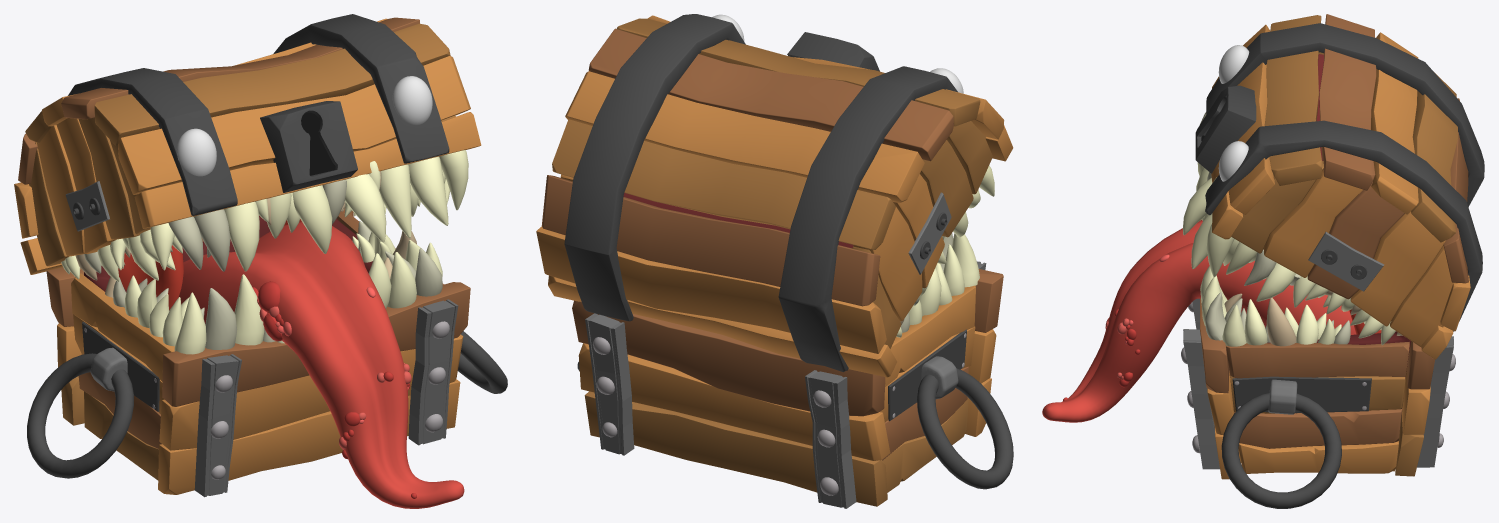
The model's file is Mimic.fbx.
3 views of the same model, side by side, from view 1: azimuth 30°, elevation 25°; view 2: azimuth 150°, elevation 25°; view 3: azimuth 270°, elevation 25° (orthographic). The views are drawn at different scales.
Visible parts, largest first — view 1: Cube.028, BezierCurve, Cube.133, Cube.023, Cube.008, Cube.040, Torus.001, Cube.004, Cube.055, Cube.046, Cube.003, Cube (+10 smaller); view 2: Cube.028, Cube.008, Cube.023, Cube.040, Cube.004, Torus.001, Cube.006, Cube.002, Cube.133, Cube.047, Cube.046, Cube.005 (+3 smaller); view 3: Cube.028, Cube.008, BezierCurve, Cube.023, Cube.133, Cube.040, Cube.004, Cube.034, Torus.001, Cube.046, Cube.047, Cube.003 (+8 smaller).
Part boxes in pixels (box(x1,y1,x2,y2)): Cube.028: box(14, 18, 481, 494); BezierCurve: box(179, 222, 464, 508); Cube.133: box(61, 150, 468, 354); Cube.023: box(25, 23, 455, 480); Cube.008: box(18, 17, 470, 448); Cube.040: box(273, 14, 449, 163); Torus.001: box(27, 331, 507, 478); Cube.004: box(68, 68, 237, 215); Cube.055: box(84, 179, 442, 349); Cube.046: box(260, 101, 357, 192); Cube.003: box(408, 299, 458, 445); Cube: box(194, 354, 241, 497); Cube.028: box(536, 15, 1013, 460); Cube.008: box(541, 28, 1003, 460); Cube.023: box(552, 18, 992, 506); Cube.040: box(564, 14, 745, 321); Cube.004: box(778, 66, 957, 372); Torus.001: box(577, 362, 1013, 489); Cube.006: box(805, 370, 856, 508); Cube.002: box(585, 313, 634, 455); Cube.133: box(896, 165, 994, 337); Cube.047: box(888, 329, 966, 421); Cube.046: box(787, 32, 879, 71); Cube.005: box(593, 337, 838, 495); Cube.028: box(1207, 24, 1470, 479); Cube.008: box(1200, 14, 1468, 448); BezierCurve: box(1042, 220, 1356, 422); Cube.023: box(1231, 15, 1458, 476); Cube.133: box(1182, 162, 1395, 346); Cube.040: box(1205, 120, 1482, 331); Cube.004: box(1206, 23, 1484, 206); Cube.034: box(1226, 342, 1409, 378); Torus.001: box(1221, 393, 1341, 508); Cube.046: box(1195, 85, 1256, 173); Cube.047: box(1232, 376, 1371, 413); Cube.003: box(1183, 329, 1219, 469).
Size of the model in its own units: 2403 by 1975 by 2344.
